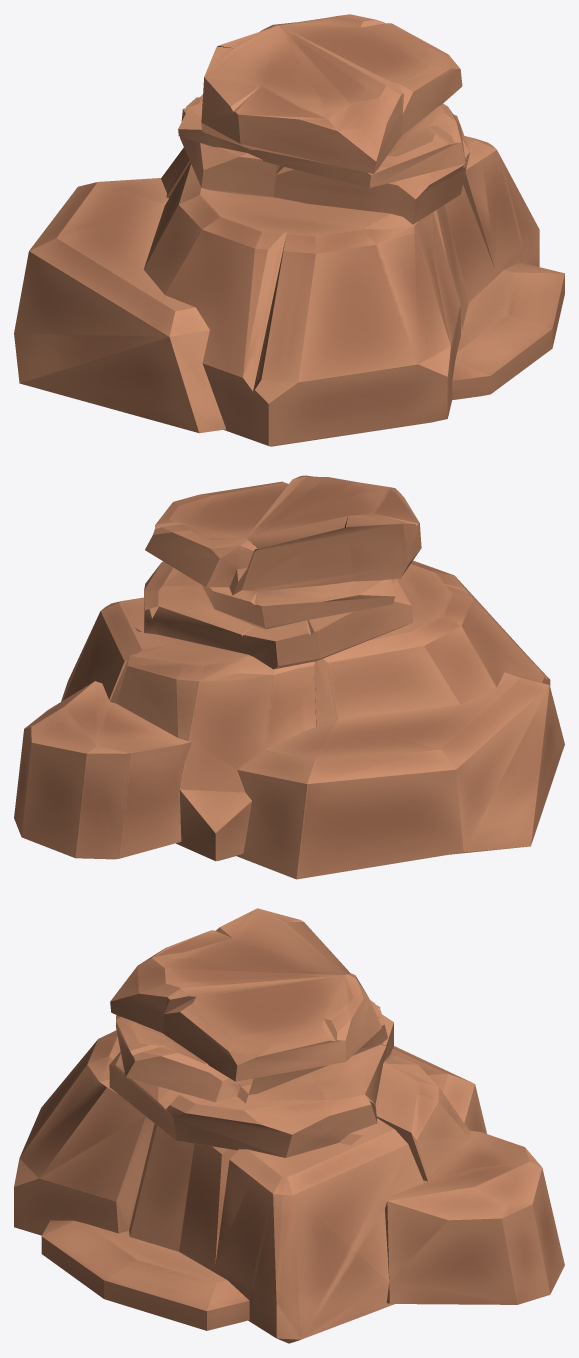
File: midle_rock_06.glb
The picture shows the model from 3 angles, top to bottom: view 1: azimuth 30°, elevation 25°; view 2: azimuth 150°, elevation 25°; view 3: azimuth 270°, elevation 25°; orthographic projection. The views are drawn at different scales.
Visible parts, largest first — view 1: Cube.017_Midle_rock_3_0; view 2: Cube.017_Midle_rock_3_0; view 3: Cube.017_Midle_rock_3_0.
Boxes of the visible parts, x1,y1,x2,y2 form: Cube.017_Midle_rock_3_0: [14, 14, 564, 446]; Cube.017_Midle_rock_3_0: [14, 475, 564, 879]; Cube.017_Midle_rock_3_0: [14, 908, 564, 1343].
Size of the model in its own units: 4.97 by 2.79 by 4.89.
Materials: 1 (1 with a texture image).
